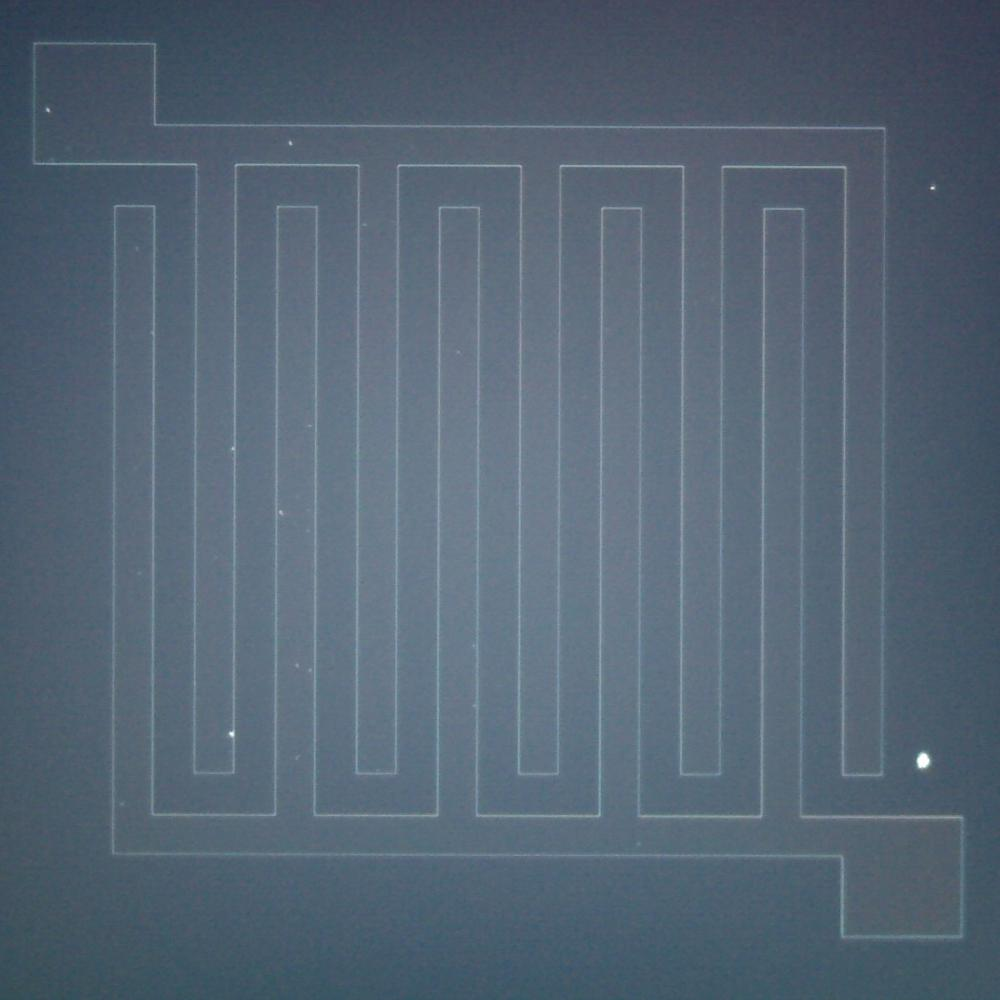dot: (915, 754, 930, 768), (288, 140, 294, 146), (362, 222, 368, 228), (278, 510, 284, 516), (228, 732, 234, 738), (930, 186, 935, 191), (46, 108, 51, 112), (295, 664, 300, 668), (457, 350, 461, 354)
